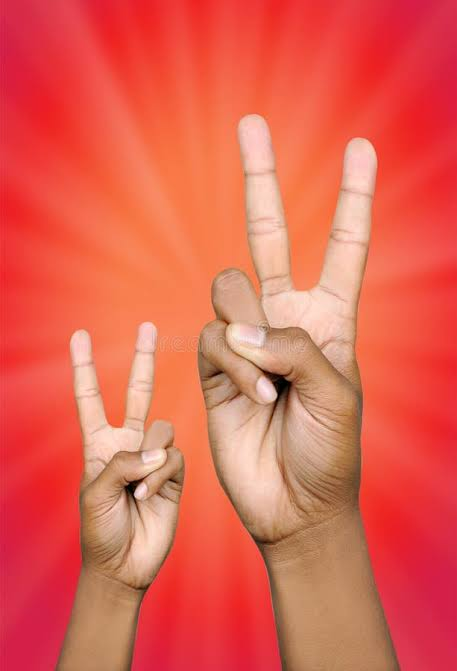peace_sign: (196, 100, 384, 541), (59, 307, 190, 595)
